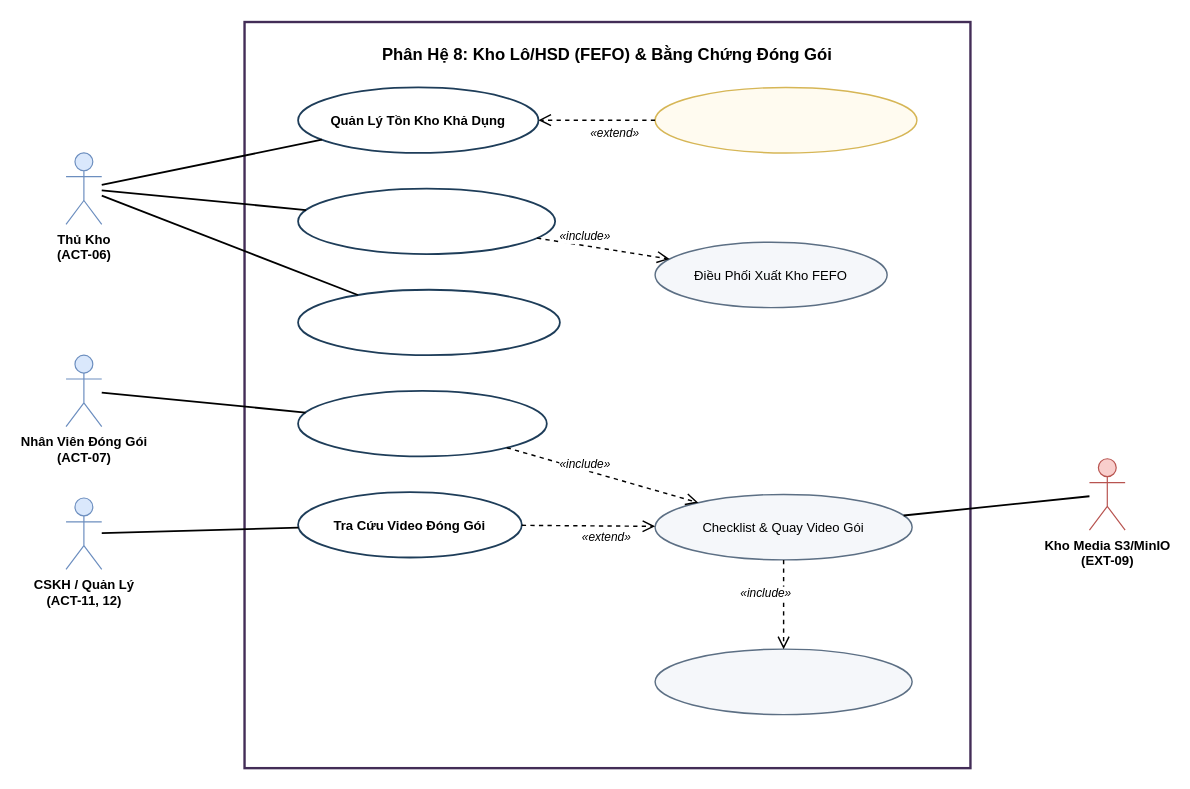
Some shapes in this 1190 by 789 pixel diagram are drawn without their labels. Each missing label, with the box of its shape:
Cảnh Báo Cận Date Thực Phẩm: (654, 86, 917, 153)
Ghi Nhận Hao Hụt & Điều Chỉnh: (297, 288, 560, 356)
In Phiếu Giao & Đổi PACKED: (654, 648, 912, 715)
Nhập Kho Chi Tiết Lô/Batch: (297, 187, 555, 254)
Tiếp Nhận DS Cần Đóng Gói: (297, 389, 547, 457)
